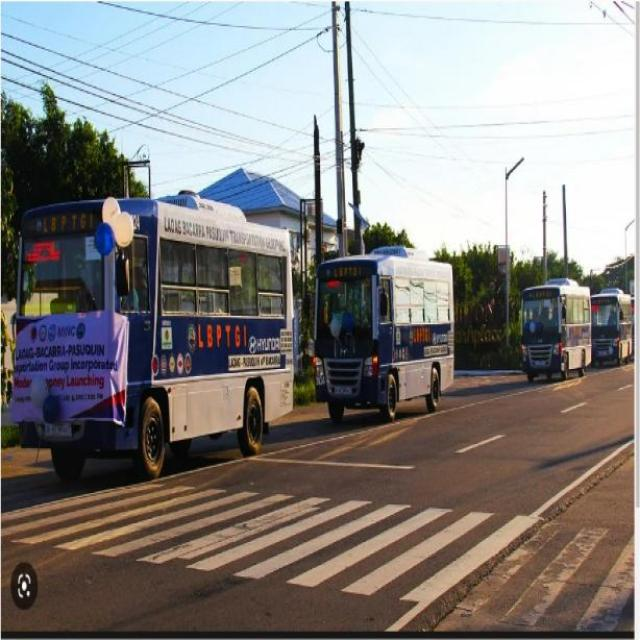pedestrian lane: (0, 477, 636, 634)
